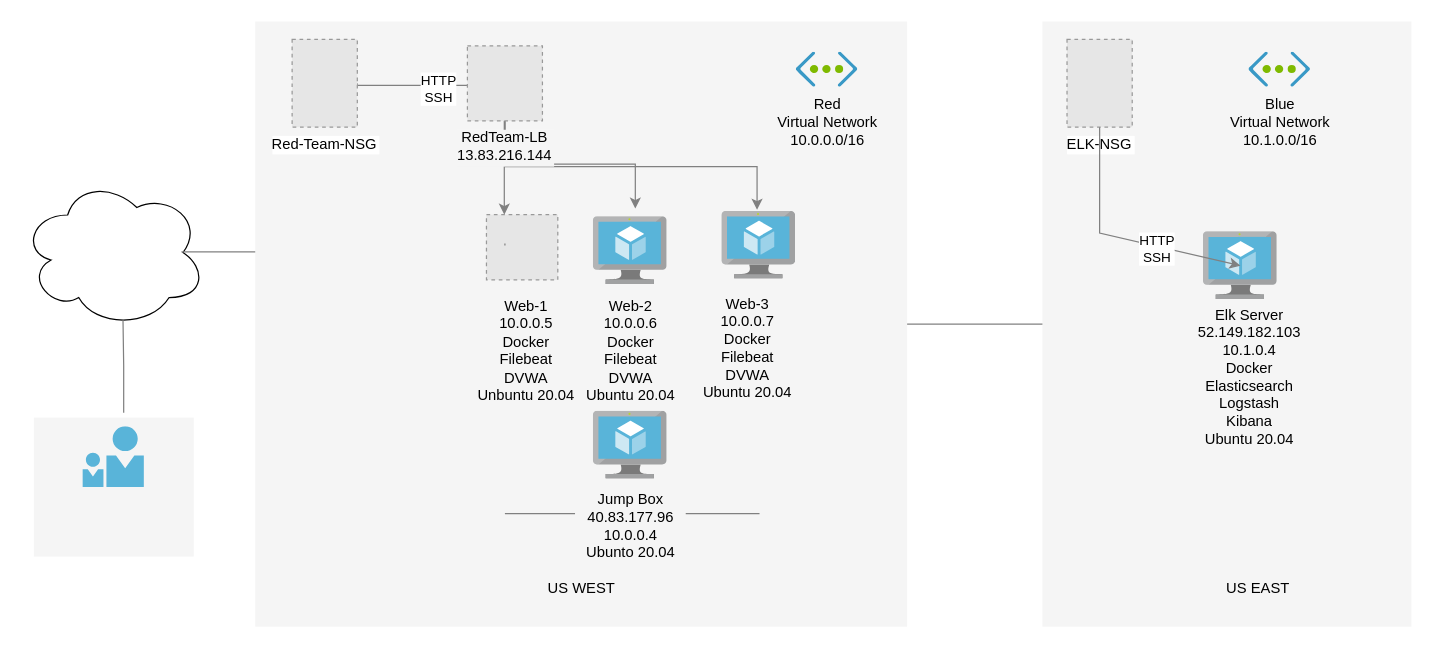
Some shapes in this 1433 by 647 pixel diagram are drawn without their labels. Grey dashed boxes stand in for pictures. Each missing label, with the centre of its shape:
"Access from the internet" goes at point 113,456.
"Internet" goes at point 113,252.
